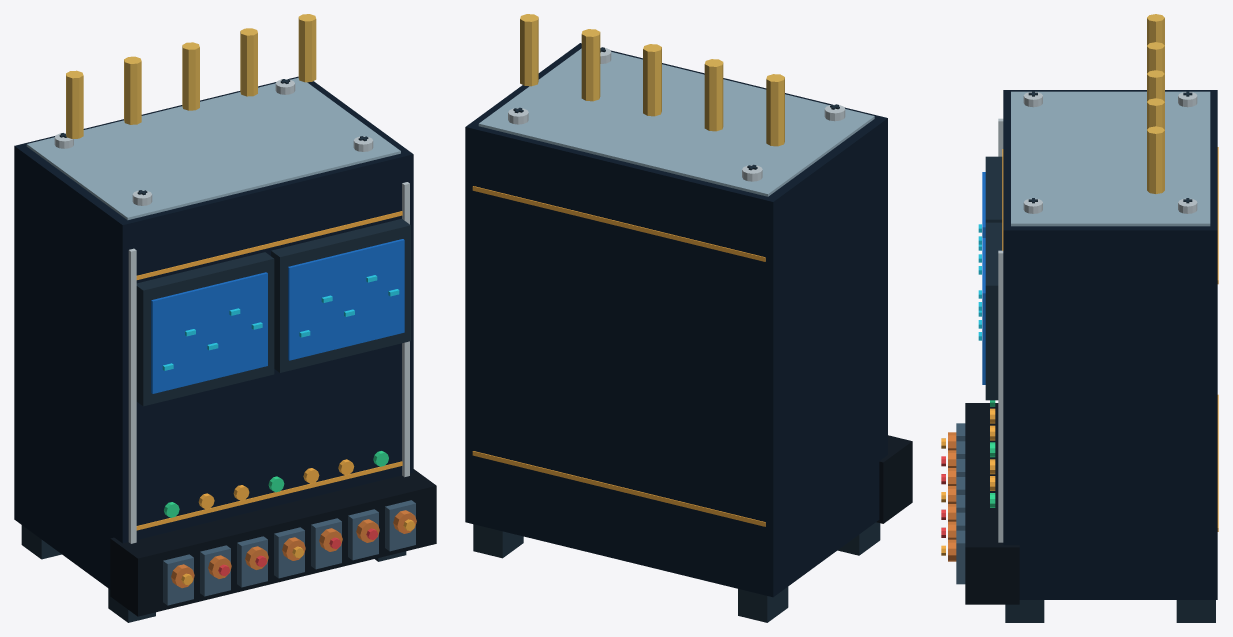
Rendered from 37_L78_PlasmaIonEnergyMonitor.fbx.
3 renders of one model, left to right at view 1: azimuth 30°, elevation 25°; view 2: azimuth 150°, elevation 25°; view 3: azimuth 270°, elevation 25°, orthographic. The views are drawn at different scales.
Visible parts, largest first — view 1: PlasmaIonEnergyMonitor; view 2: PlasmaIonEnergyMonitor; view 3: PlasmaIonEnergyMonitor.
Part boxes in pixels (<box>): PlasmaIonEnergyMonitor: <box>14,14,436,622</box>; PlasmaIonEnergyMonitor: <box>465,14,912,622</box>; PlasmaIonEnergyMonitor: <box>941,14,1218,622</box>.
Bounding box in the file's own units: 113 × 176 × 91.84.
